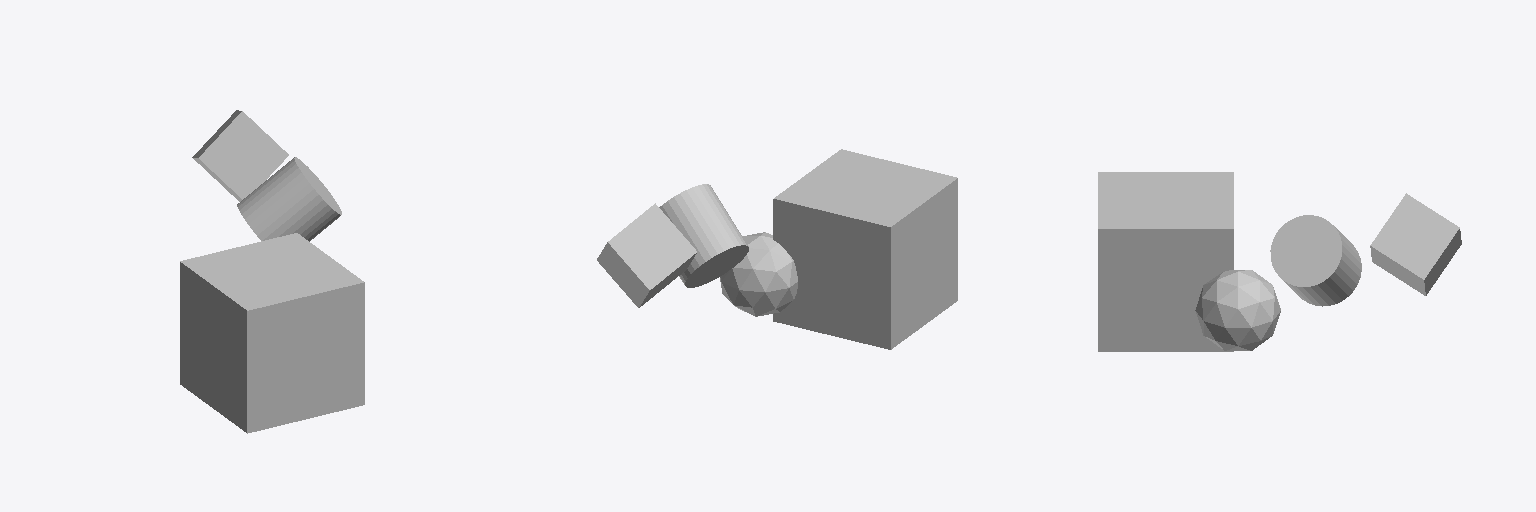
The model's file is shapes.obj.
The picture shows the model from 3 angles: view 1: azimuth 30°, elevation 25°; view 2: azimuth 150°, elevation 25°; view 3: azimuth 270°, elevation 25°; orthographic projection.
Parts seen in each view (by area): view 1: Cube, Cylinder, Cube.001; view 2: Cube, Cube.001, Cylinder, Icosphere; view 3: Cube, Cylinder, Cube.001, Icosphere.
Boxes of the visible parts, box(x1,y1,x2,y2) form: Cube: box(180, 233, 364, 433); Cylinder: box(237, 157, 341, 241); Cube.001: box(192, 110, 288, 201); Cube: box(773, 149, 957, 349); Cube.001: box(597, 203, 696, 307); Cylinder: box(659, 184, 748, 287); Icosphere: box(720, 232, 797, 316); Cube: box(1098, 172, 1233, 351); Cylinder: box(1270, 215, 1361, 306); Cube.001: box(1370, 193, 1461, 295); Icosphere: box(1195, 270, 1280, 350).
Bounding box in the file's own units: 3.39 × 2.83 × 5.37.